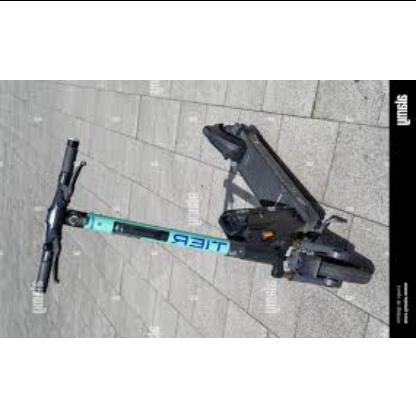bike: (28, 123, 376, 308)
